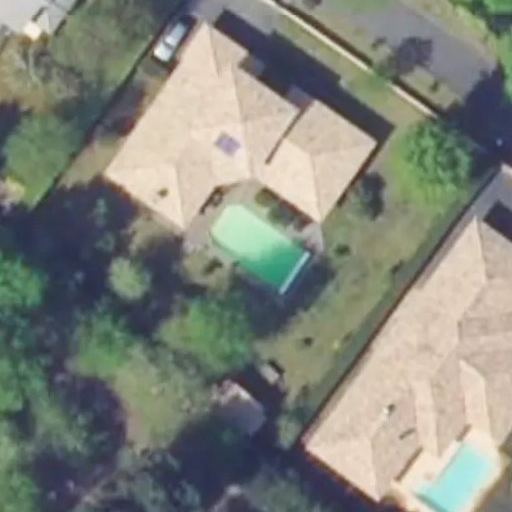pool: (199, 231, 306, 246)
